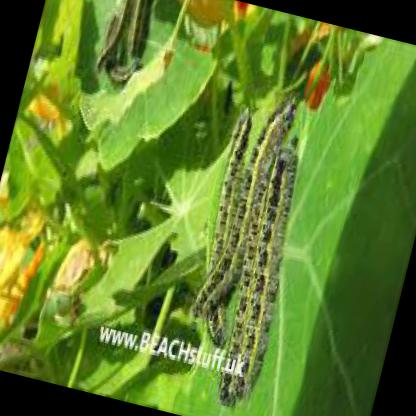pieris: (202, 95, 296, 313), (232, 145, 299, 401), (208, 110, 252, 271)
